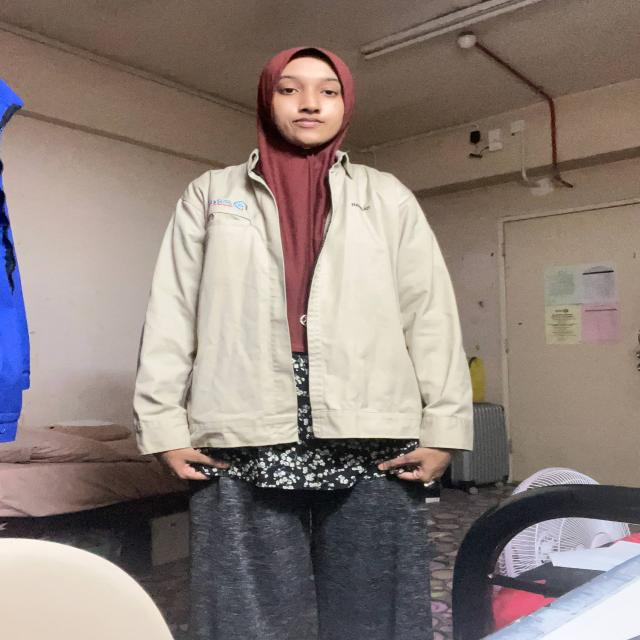person_with_labcoat: (134, 47, 473, 640)
